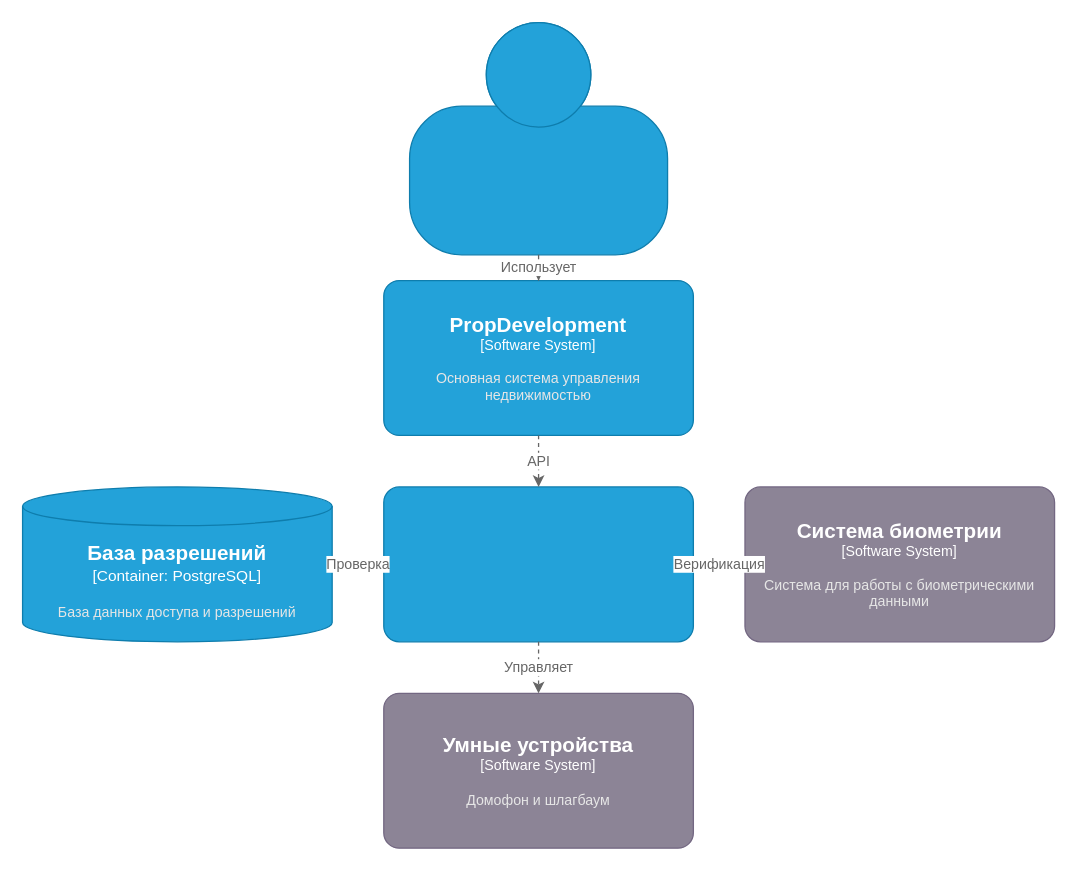
This 1077x871 diagram has some shape labels left out. The centre of each missing label's shape, as x and y in pixels:
"Собственник [Person] Владелец недвижимости" goes at (538,138).
"Умный дом [Software System] Система управления умными устройствами" goes at (537,564).
